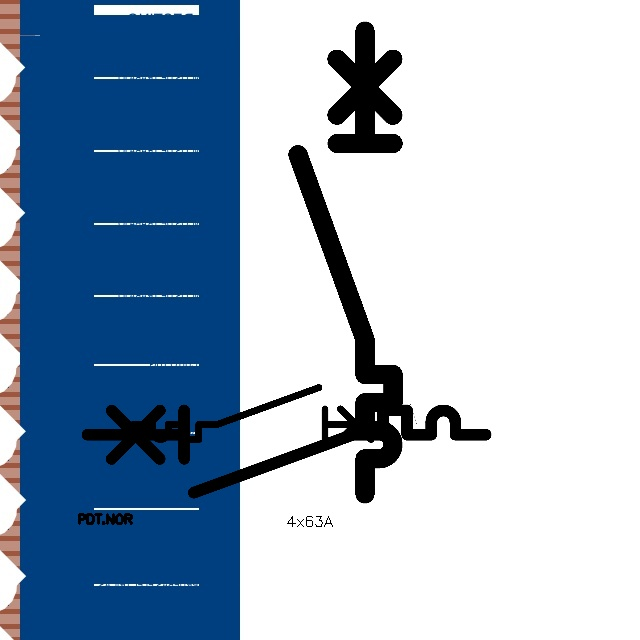interruptor_termomagnetico: (286, 19, 405, 506), (77, 400, 496, 502), (127, 381, 393, 446)
